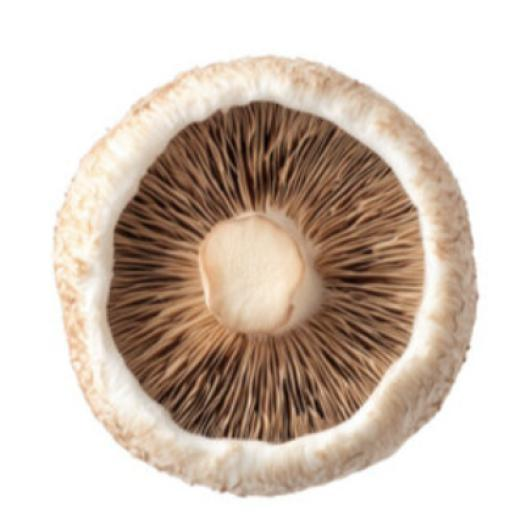mushroom: (50, 51, 482, 502)
